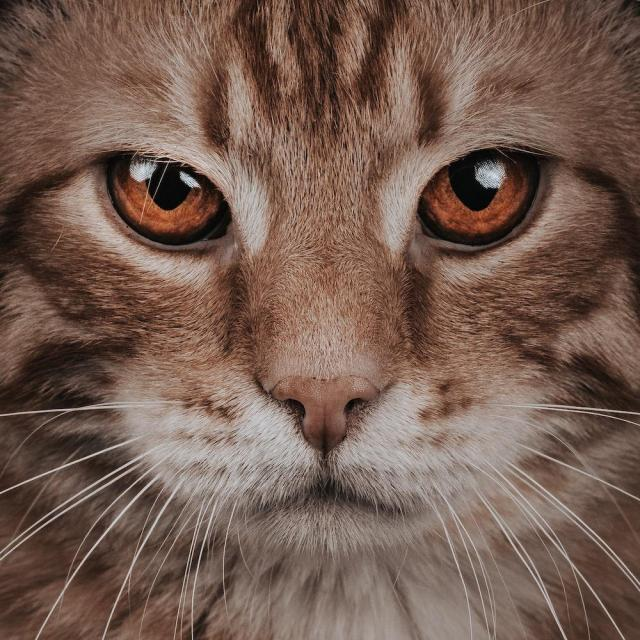Cat: (0, 5, 640, 576)
